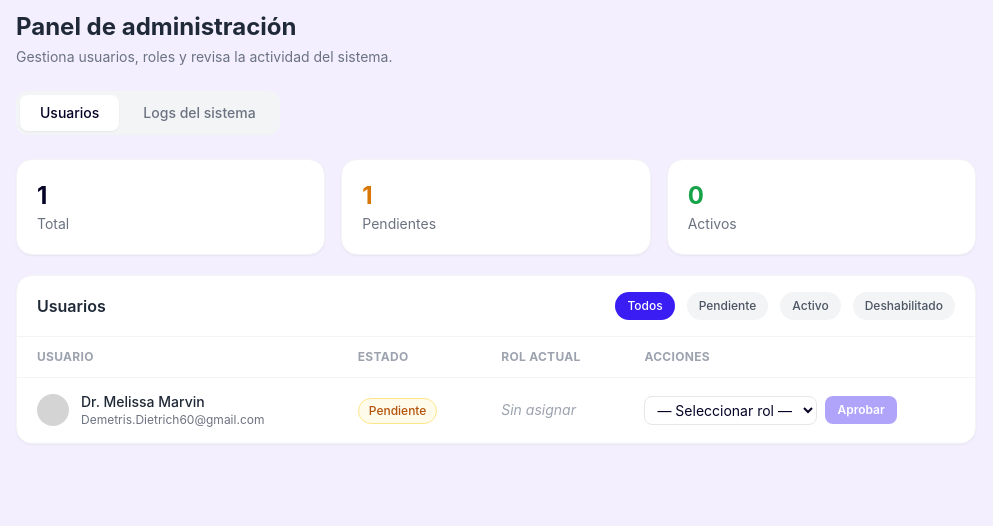
UsersTab › shows fallback error when approveUser fails without detail
Select "Administrador" in the dropdown showing "— Seleccionar rol —" at (731, 410), box [644,396,817,424]
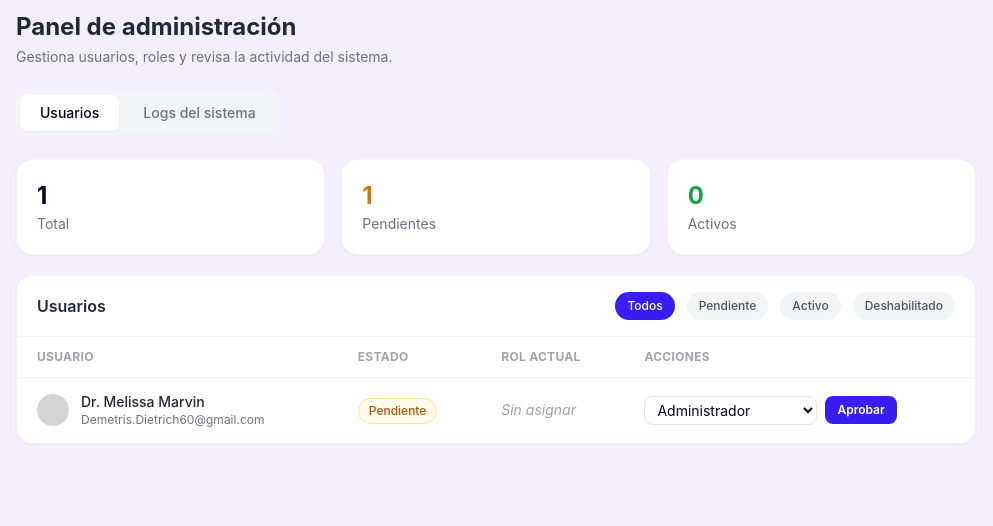
Click the button "Aprobar" at (861, 410), box [825,396,897,424]
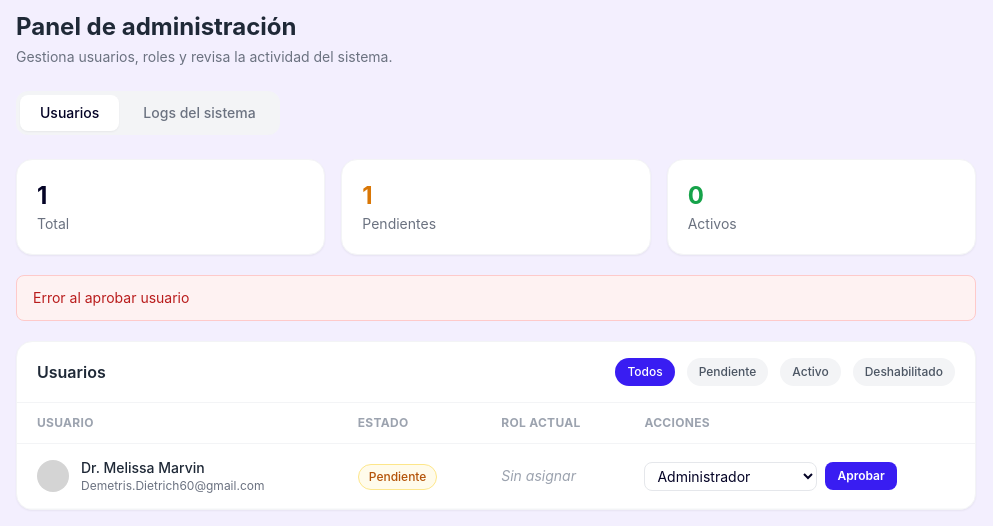
Result: the text "Error al aprobar usuario" is shown at [16,275,976,321]
